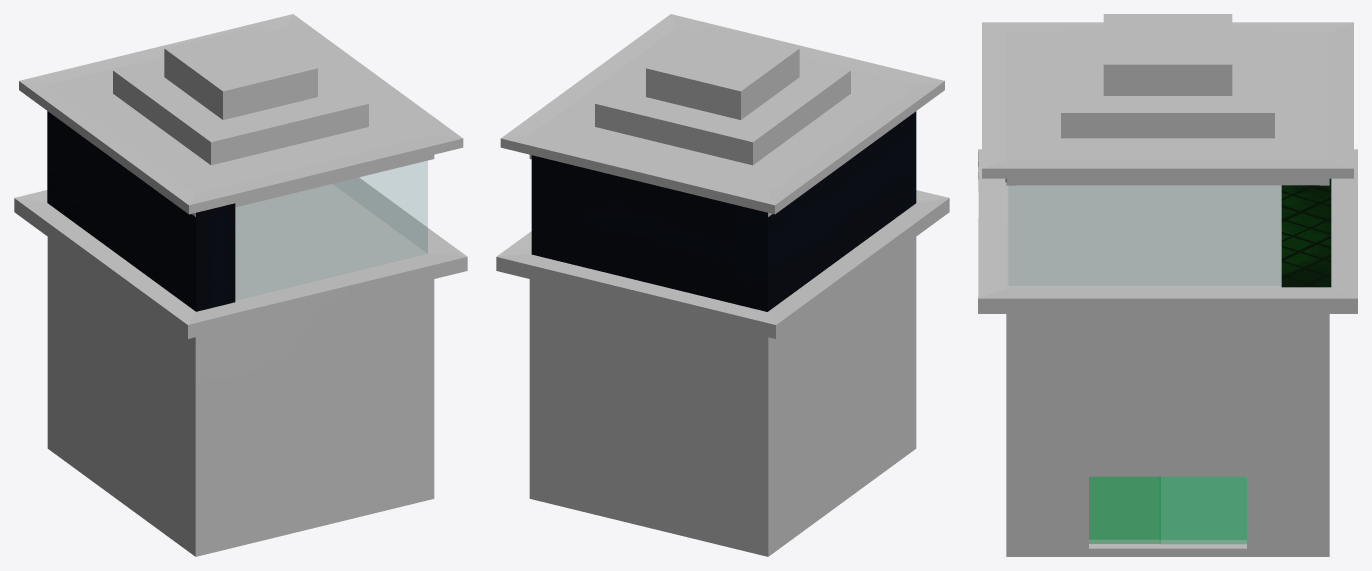
File: BarBanak.fbx
3 renders of one model, left to right at view 1: azimuth 30°, elevation 25°; view 2: azimuth 150°, elevation 25°; view 3: azimuth 270°, elevation 25°, orthographic. The views are drawn at different scales.
Visible parts, largest first — view 1: Edificio, Pared, Vidrio; view 2: Edificio, Pared; view 3: Edificio, PuertaIzquierda1, Pared, PuertaIzquierda.
Part boxes in pixels (x1,y1,x2,y2): Edificio: [14, 14, 467, 556]; Pared: [47, 111, 235, 311]; Vidrio: [333, 161, 427, 253]; Edificio: [496, 14, 949, 556]; Pared: [531, 111, 916, 311]; Edificio: [978, 14, 1357, 556]; PuertaIzquierda1: [1159, 476, 1246, 543]; Pared: [1005, 178, 1331, 287]; PuertaIzquierda: [1089, 476, 1160, 543].
Bounding box in the file's own units: 500 × 708 × 537.
